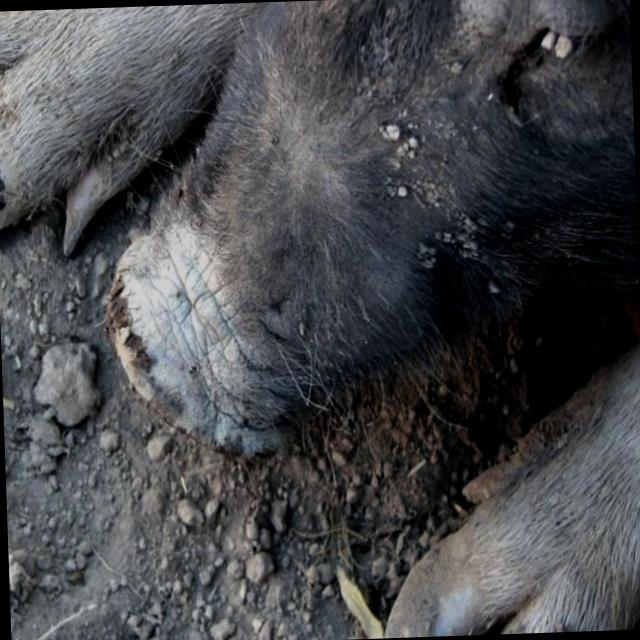pig: (0, 0, 638, 457), (386, 346, 640, 636)
